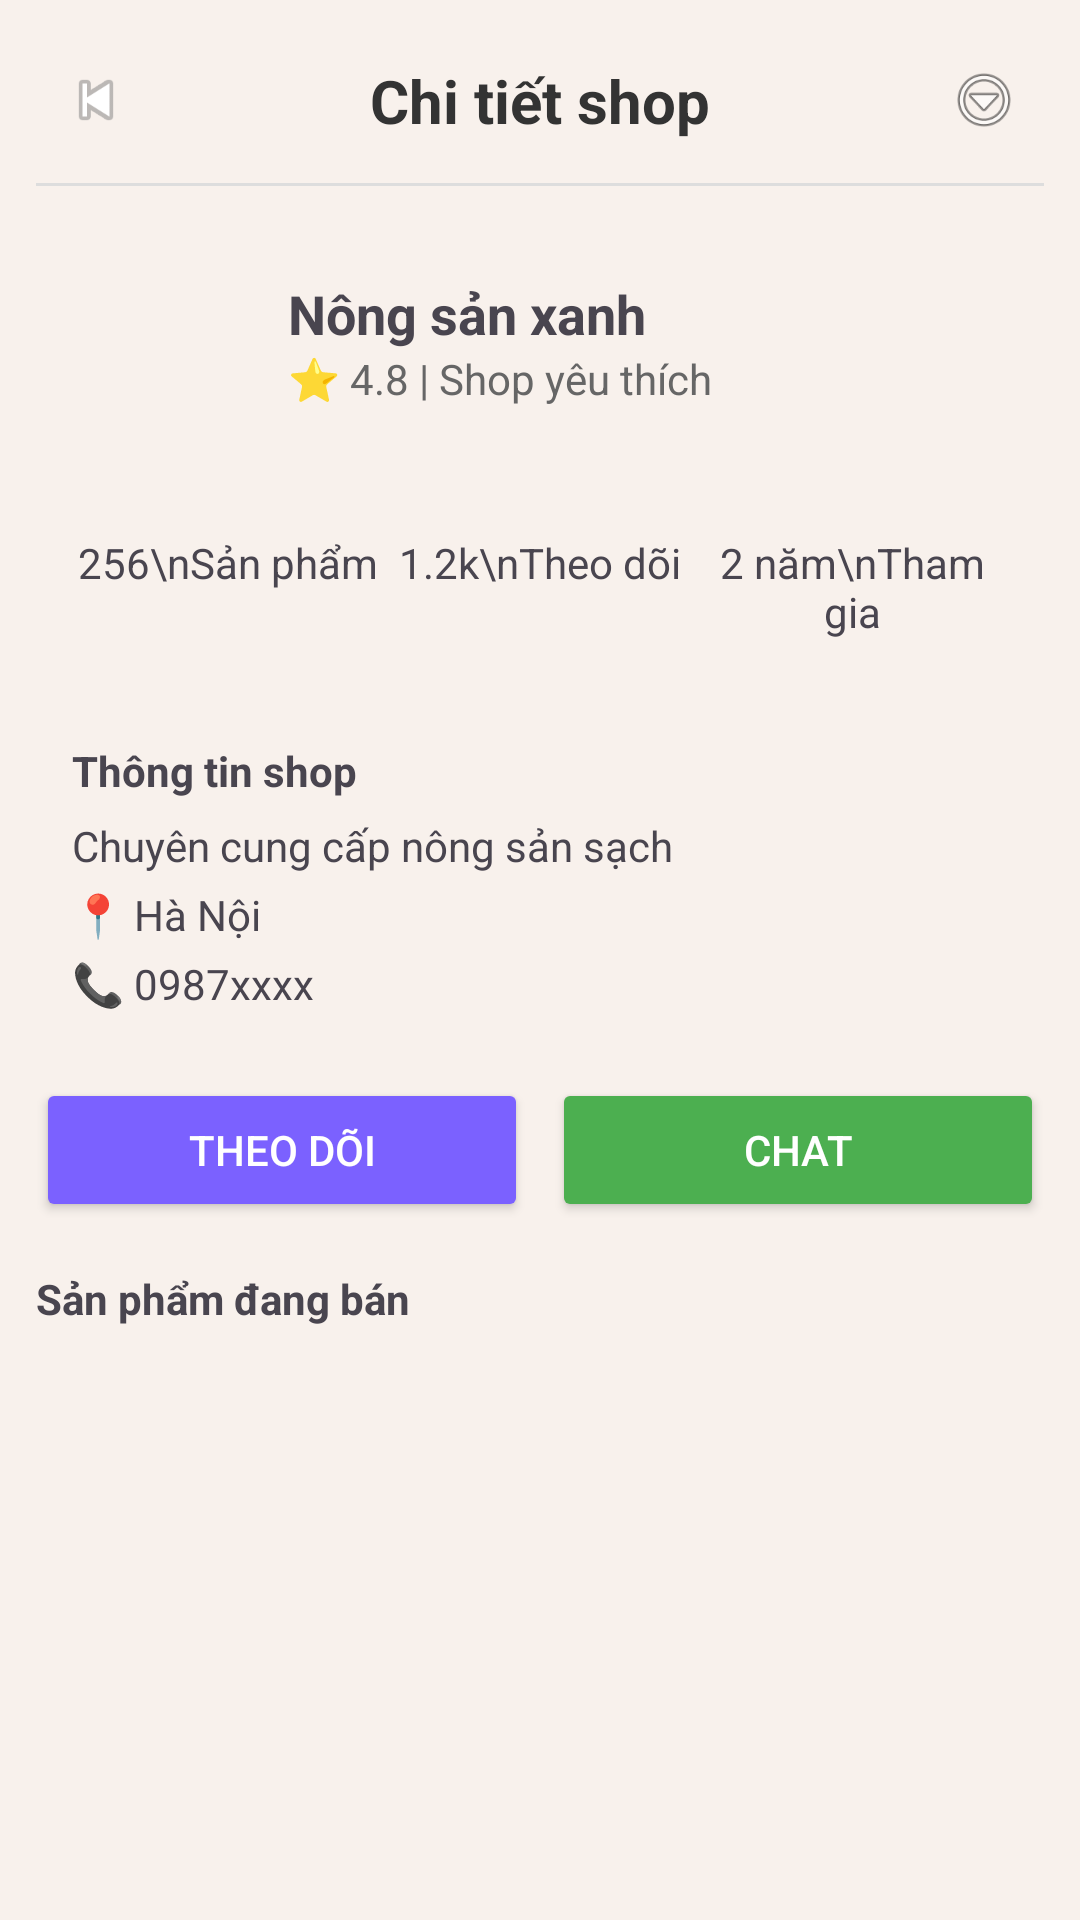

Locate icon controls on the screen. Image size 1080px x 1920px, boxes as (x1, y1, x2, y2).
more: (957, 73, 1011, 127)
previous: (78, 79, 114, 121)
